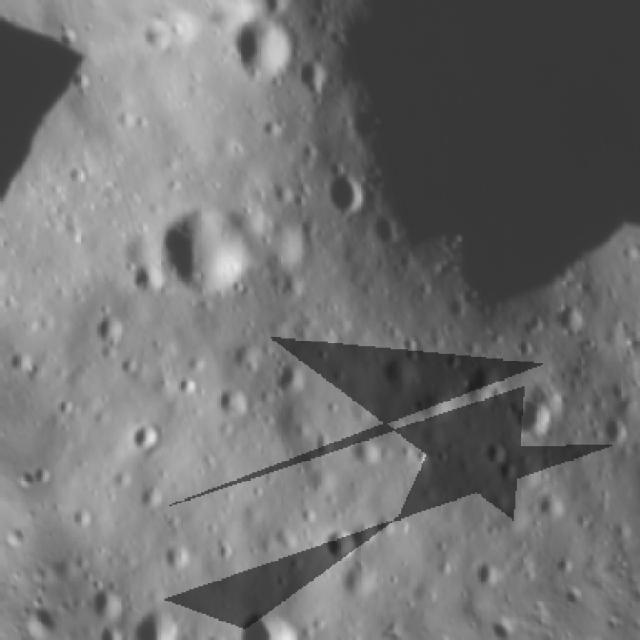crater: (140, 178, 266, 317), (221, 4, 304, 88), (221, 580, 321, 640), (308, 152, 379, 235), (493, 384, 561, 450), (79, 298, 136, 354), (205, 374, 262, 429), (368, 340, 426, 394), (315, 516, 367, 567), (262, 348, 315, 398), (125, 595, 183, 640), (543, 292, 595, 342), (114, 414, 164, 464), (438, 585, 504, 618), (588, 411, 634, 457), (293, 48, 332, 90), (193, 611, 242, 640), (143, 621, 217, 640)
